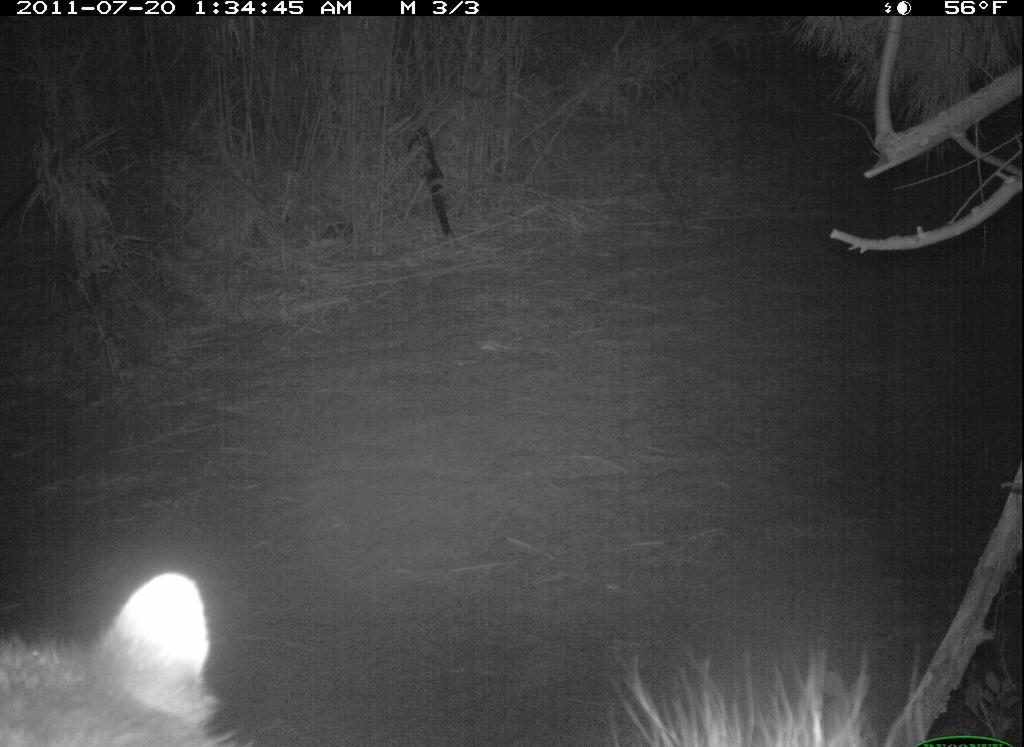raccoon: (4, 561, 961, 745)
